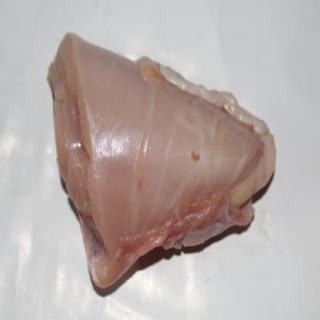Ayam: (46, 32, 277, 290)
